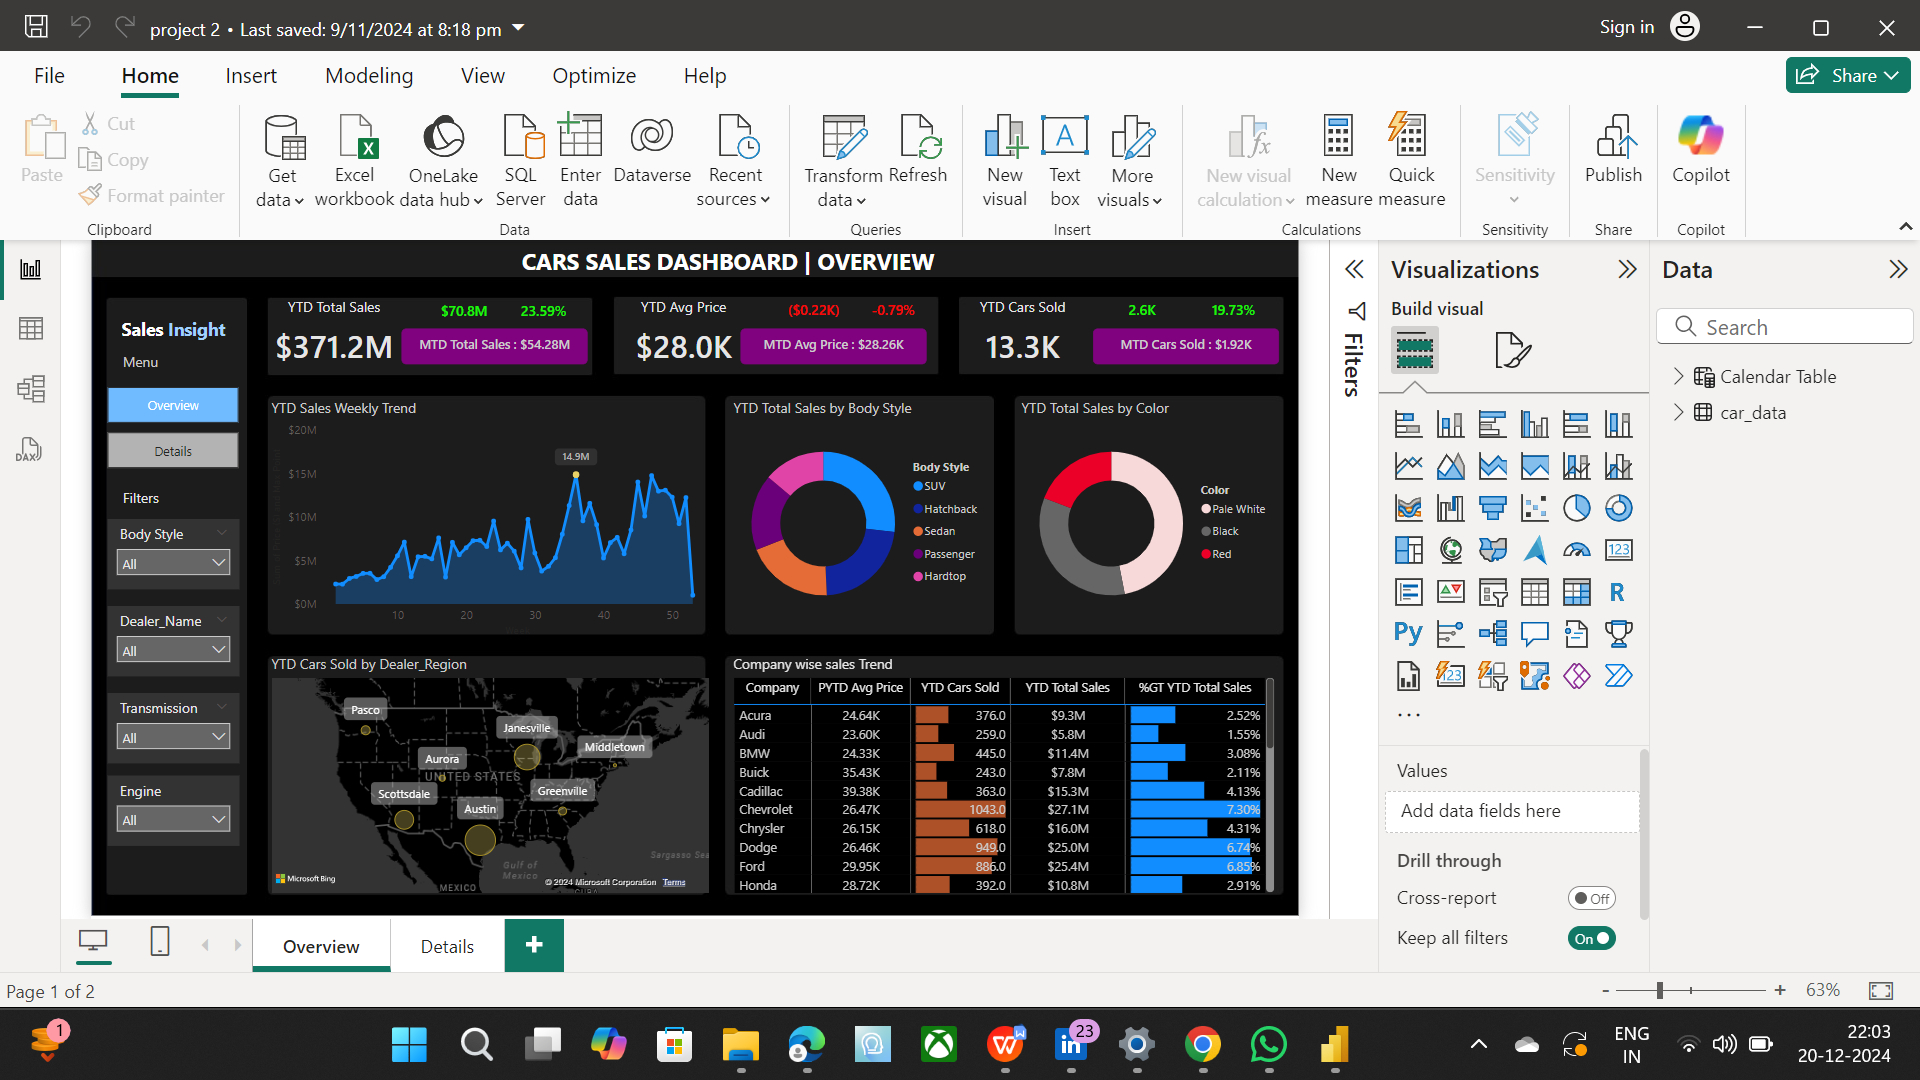

This screenshot's page, from the dashboard's own definition file:
{"tool":"powerbi","page":{"name":"Overview","canvas":[1280,720],"ordinal":0},"visuals":[{"type":"card","title":"YTD  Total Sales","fields":{"Values":["car_data.YTD Total Sales"]},"box":[168.6,60.4,178.1,82.7],"z":0},{"type":"card","fields":{"Values":["car_data.Sales Difference"]},"box":[346.8,60.4,97,33.4],"z":1000},{"type":"card","fields":{"Values":["car_data.YoY sales Growth"]},"box":[432.6,60.4,93.8,33.4],"z":2000},{"type":"card","fields":{"Values":["car_data.MTD KPI"]},"box":[329.3,93.8,197.2,38.2],"z":3000},{"type":"card","title":"YTD  Avg Price","fields":{"Values":["car_data.YTD Avg Price"]},"box":[539.2,60.4,178.1,82.7],"z":4000},{"type":"card","fields":{"Values":["car_data.Avg Price Diff"]},"box":[717.4,60.4,97,31.8],"z":5000},{"type":"card","fields":{"Values":["car_data.YoY Avg Price Growth"]},"box":[801.7,60.4,97,31.8],"z":6000},{"type":"card","fields":{"Values":["car_data.MTD Avg Price KPI"]},"box":[688.7,93.8,197.2,38.2],"z":7000},{"type":"card","title":"YTD  Cars Sold","fields":{"Values":["car_data.YTD Cars Sold"]},"box":[898.7,60.4,178.1,82.7],"z":8000},{"type":"card","fields":{"Values":["car_data.Cars Sold Diff"]},"box":[1065.7,60.4,97,31.8],"z":9000},{"type":"card","fields":{"Values":["car_data.YoY Cars Sold growth"]},"box":[1162.7,60.4,97,31.8],"z":10000},{"type":"card","fields":{"Values":["car_data.MTD Cars Sold KPI"]},"box":[1062.5,93.8,197.2,38.2],"z":11000},{"type":"areaChart","title":"YTD Sales Weekly Trend","fields":{"Category":["Calendar Table.Week"],"Y":["Sum(car_data.Price ($))","car_data.Max Point"]},"box":[186.1,167,474,257.7],"z":12000},{"type":"donutChart","fields":{"Category":["car_data.Body Style"],"Y":["car_data.YTD Total Sales"]},"box":[676,167,278.4,246.5],"z":13000},{"type":"donutChart","fields":{"Y":["car_data.YTD Total Sales"],"Category":["car_data.Color"]},"box":[981.4,167,278.4,246.5],"z":14000},{"type":"map","fields":{"Category":["car_data.Dealer_Region"],"Size":["car_data.YTD Cars Sold"]},"box":[186.1,439,474,257.7],"z":15000},{"type":"tableEx","title":"Company wise sales Trend","fields":{"Values":["car_data.Company","car_data.PYTD Avg Price","car_data.YTD Cars Sold","car_data.YTD Total Sales1","car_data.YTD Total Sales"]},"box":[676,439,583.8,257.7],"z":16000},{"type":"textbox","box":[451.7,0,474,84.3],"z":17000},{"type":"slicer","fields":{"Values":["car_data.Body Style"]},"box":[17.5,295.9,140,74.8],"z":18000},{"type":"slicer","fields":{"Values":["car_data.Dealer_Name"]},"box":[17.5,388.1,140,74.8],"z":19000},{"type":"slicer","fields":{"Values":["car_data.Transmission"]},"box":[17.5,480.4,140,74.8],"z":20000},{"type":"slicer","fields":{"Values":["car_data.Engine"]},"box":[17.5,567.8,140,74.8],"z":21000},{"type":"textbox","box":[28.6,257.7,101.8,33.4],"z":22000},{"type":"textbox","box":[17.5,76.3,140,55.7],"z":23000},{"type":"textbox","box":[28.6,112.9,101.8,54.1],"z":24000},{"type":"pageNavigator","box":[17.5,155.9,140,87.5],"z":25000}]}

Visuals, with their boxes on the page's 1280x720 design canvas (x1, y1, x2, y2). These are canvas units, not pixel positions in the 1920x1080 screenshot, which may show the page scaled, cropped or inside an application window:
"YTD  Total Sales" card: 169, 60, 347, 143
card - car_data.Sales Difference: 347, 60, 444, 94
card - car_data.YoY sales Growth: 433, 60, 526, 94
card - car_data.MTD KPI: 329, 94, 526, 132
"YTD  Avg Price" card: 539, 60, 717, 143
card - car_data.Avg Price Diff: 717, 60, 814, 92
card - car_data.YoY Avg Price Growth: 802, 60, 899, 92
card - car_data.MTD Avg Price KPI: 689, 94, 886, 132
"YTD  Cars Sold" card: 899, 60, 1077, 143
card - car_data.Cars Sold Diff: 1066, 60, 1163, 92
card - car_data.YoY Cars Sold growth: 1163, 60, 1260, 92
card - car_data.MTD Cars Sold KPI: 1062, 94, 1260, 132
"YTD Sales Weekly Trend" areaChart: 186, 167, 660, 425
donutChart - car_data.Body Style x car_data.YTD Total Sales: 676, 167, 954, 414
donutChart - car_data.YTD Total Sales x car_data.Color: 981, 167, 1260, 414
map - car_data.Dealer_Region x car_data.YTD Cars Sold: 186, 439, 660, 697
"Company wise sales Trend" tableEx: 676, 439, 1260, 697
textbox: 452, 0, 926, 84
slicer - car_data.Body Style: 18, 296, 158, 371
slicer - car_data.Dealer_Name: 18, 388, 158, 463
slicer - car_data.Transmission: 18, 480, 158, 555
slicer - car_data.Engine: 18, 568, 158, 643
textbox: 29, 258, 130, 291
textbox: 18, 76, 158, 132
textbox: 29, 113, 130, 167
pageNavigator: 18, 156, 158, 243
